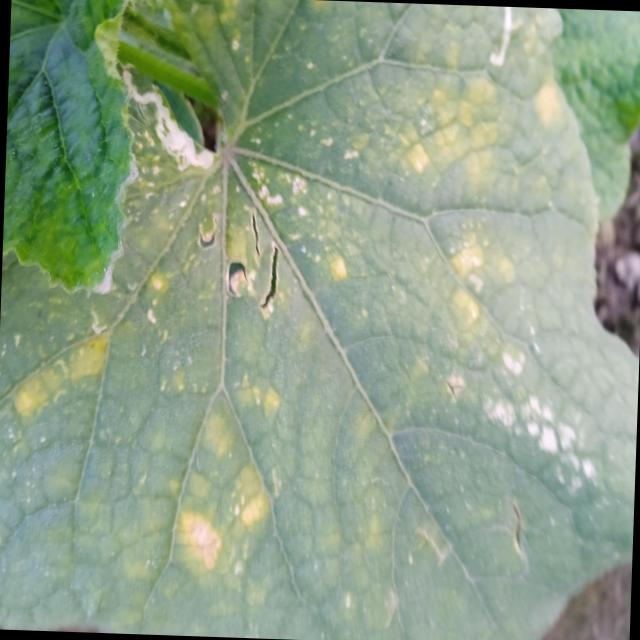cucumber_downy: (131, 1, 620, 640), (0, 294, 168, 624)
